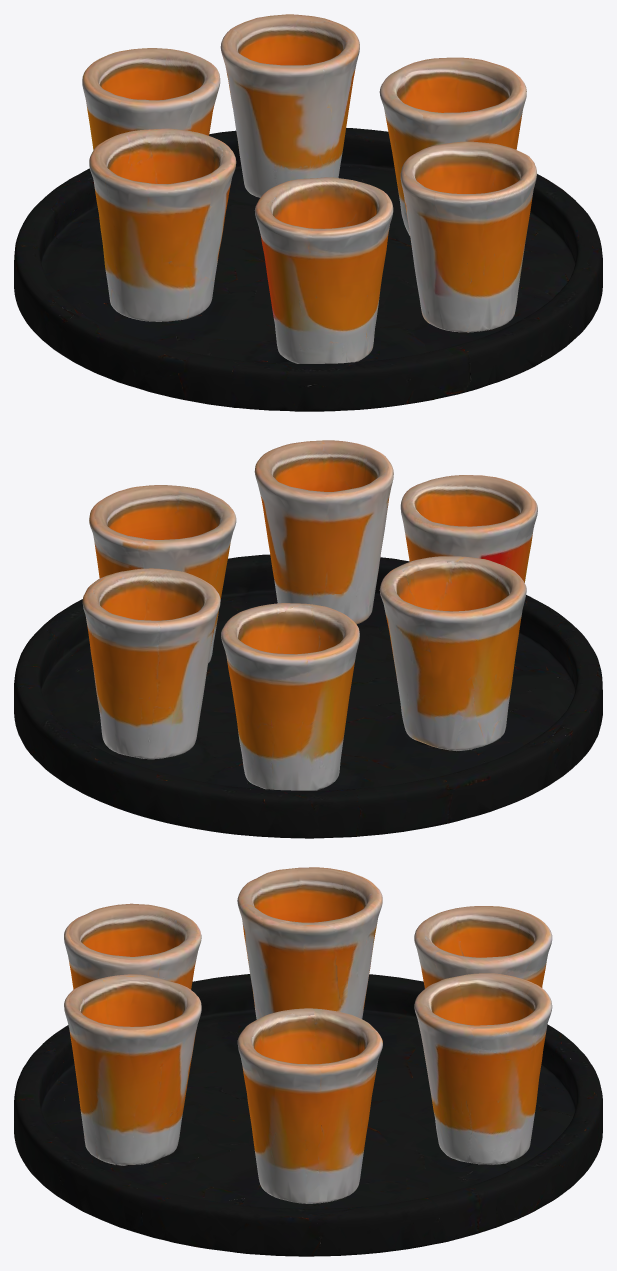
The model's file is shot_tray.glb.
3 renders of one model, top to bottom at view 1: azimuth 30°, elevation 25°; view 2: azimuth 150°, elevation 25°; view 3: azimuth 270°, elevation 25°, orthographic.
Size of the model in its own units: 1.9 by 0.5977 by 1.9.
1 material, 1 textured.
